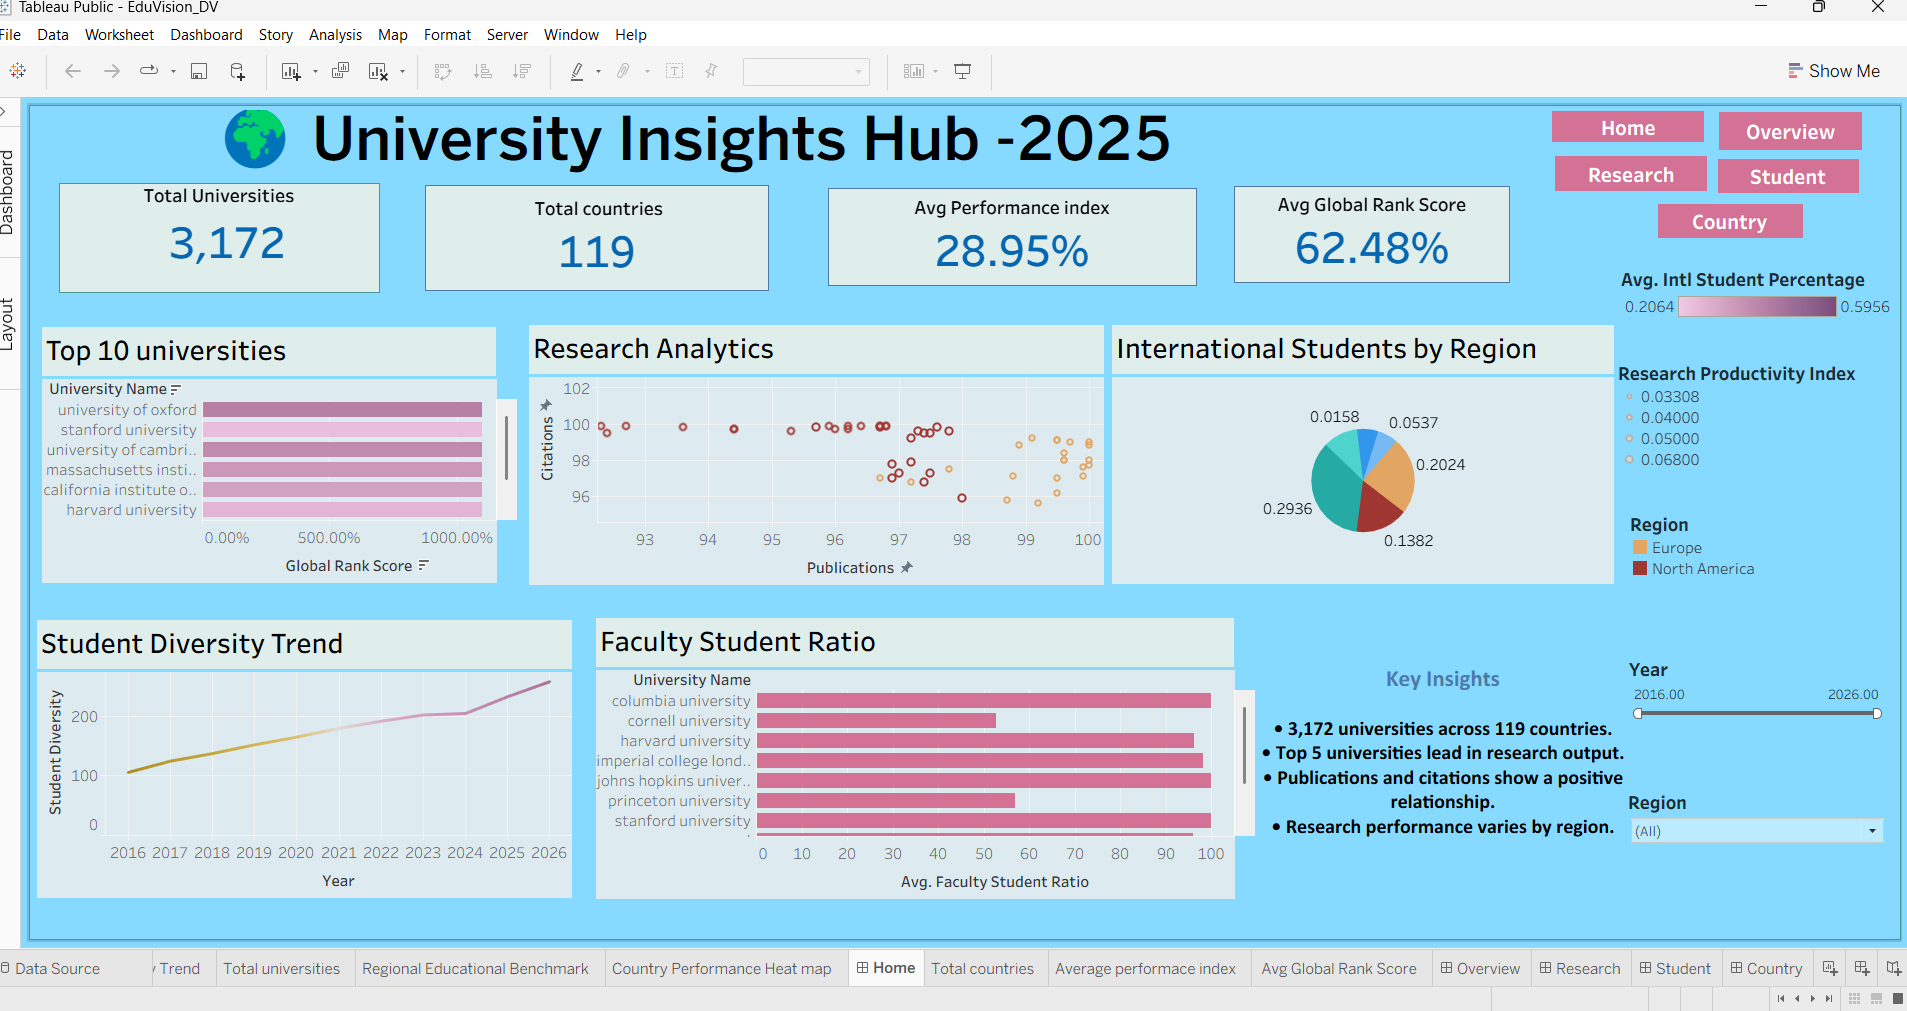

Layout of this report page (visuals, bound fields, positions):
{"tool":"tableau","page":{"name":"Home","canvas":[1000,1000],"units":"permille","ordinal":1},"visuals":[{"type":"dashboard-object","box":[811,16.4,80.7,36.4]},{"type":"dashboard-object","box":[899.2,17.6,76,44.6]},{"type":"dashboard-object","box":[812.3,69.3,80.9,41.1]},{"type":"dashboard-object","box":[898.6,72.9,74.8,40]},{"type":"worksheet","title":"Total universities","mark":"Automatic","box":[19.9,101.1,170.2,129.3]},{"type":"worksheet","title":"Total countries","mark":"Automatic","box":[214.2,103.4,182.3,124.6]},{"type":"worksheet","title":" Avg Global Rank Score","mark":"Automatic","box":[642.7,104.6,146.1,114]},{"type":"worksheet","title":"Average performace index","mark":"Automatic","box":[427.3,106.9,195.5,115.2]},{"type":"dashboard-object","box":[867.2,125.7,76.6,40]},{"type":"legend","title":"Top 10 universities","param":"[federated.0h4gkdz13owlju1cz09em0bg1f1x].[avg:Intl_Student_Percentage:qk]","box":[847.5,198.6,145.3,85.8]},{"type":"worksheet","title":"Research Analytics","mark":"Automatic","rows":["Citations"],"cols":["Publications"],"box":[269.1,267.9,304.4,305.5]},{"type":"worksheet","title":"International Students by Region","mark":"Pie","box":[577.8,267.9,266.1,304.4]},{"type":"worksheet","title":"Top 10 universities","mark":"Automatic","rows":["University_Name"],"cols":["Global_Rank_Score"],"box":[10.9,270.3,251.7,300.8]},{"type":"legend","title":"Research Analytics","param":"[federated.0h4gkdz13owlju1cz09em0bg1f1x].[avg:Research_Productivity_Index:qk]","box":[845.7,309.1,144.7,137.5]},{"type":"legend","title":"Research Analytics","param":"[federated.0h4gkdz13owlju1cz09em0bg1f1x].[none:Region:nk]","box":[852.3,486.5,132.8,112.8]},{"type":"text","box":[654.2,602.8,198,337.2]},{"type":"worksheet","title":"Faculty Student Ratio","mark":"Automatic","rows":["University_Name"],"cols":["Faculty_Student_Ratio"],"box":[304.8,612.2,348.8,330.2]},{"type":"worksheet","title":"Student Diversity Trend","mark":"Line","rows":["Student_Diversity"],"cols":["Year"],"box":[8.4,614.6,283.5,326.7]},{"type":"filter","title":"Student Diversity Trend","param":"[federated.0h4gkdz13owlju1cz09em0bg1f1x].[none:Year:qk]","box":[851.7,656.9,136.4,77.6]},{"type":"filter","title":"International Students by Region","param":"[federated.0h4gkdz13owlju1cz09em0bg1f1x].[none:Region:nk]","box":[851.1,813.2,137,106.9]}]}

Visuals, with their boxes on the dashboard's canvas, which has no fixed pixel size, in thousandths of its width and height (x1, y1, x2, y2). These are canvas units, not pixel positions in the 1907x1011 screenshot, which may show the page scaled, cropped or inside an application window:
dashboard-object: box=[811, 16, 892, 53]
dashboard-object: box=[899, 18, 975, 62]
dashboard-object: box=[812, 69, 893, 110]
dashboard-object: box=[899, 73, 973, 113]
"Total universities" worksheet: box=[20, 101, 190, 230]
"Total countries" worksheet: box=[214, 103, 396, 228]
" Avg Global Rank Score" worksheet: box=[643, 105, 789, 219]
"Average performace index" worksheet: box=[427, 107, 623, 222]
dashboard-object: box=[867, 126, 944, 166]
"Top 10 universities" legend: box=[848, 199, 993, 284]
"Research Analytics" worksheet: box=[269, 268, 574, 573]
"International Students by Region" worksheet (Pie marks): box=[578, 268, 844, 572]
"Top 10 universities" worksheet: box=[11, 270, 263, 571]
"Research Analytics" legend: box=[846, 309, 990, 447]
"Research Analytics" legend: box=[852, 486, 985, 599]
text: box=[654, 603, 852, 940]
"Faculty Student Ratio" worksheet: box=[305, 612, 654, 942]
"Student Diversity Trend" worksheet (Line marks): box=[8, 615, 292, 941]
"Student Diversity Trend" filter: box=[852, 657, 988, 734]
"International Students by Region" filter: box=[851, 813, 988, 920]
